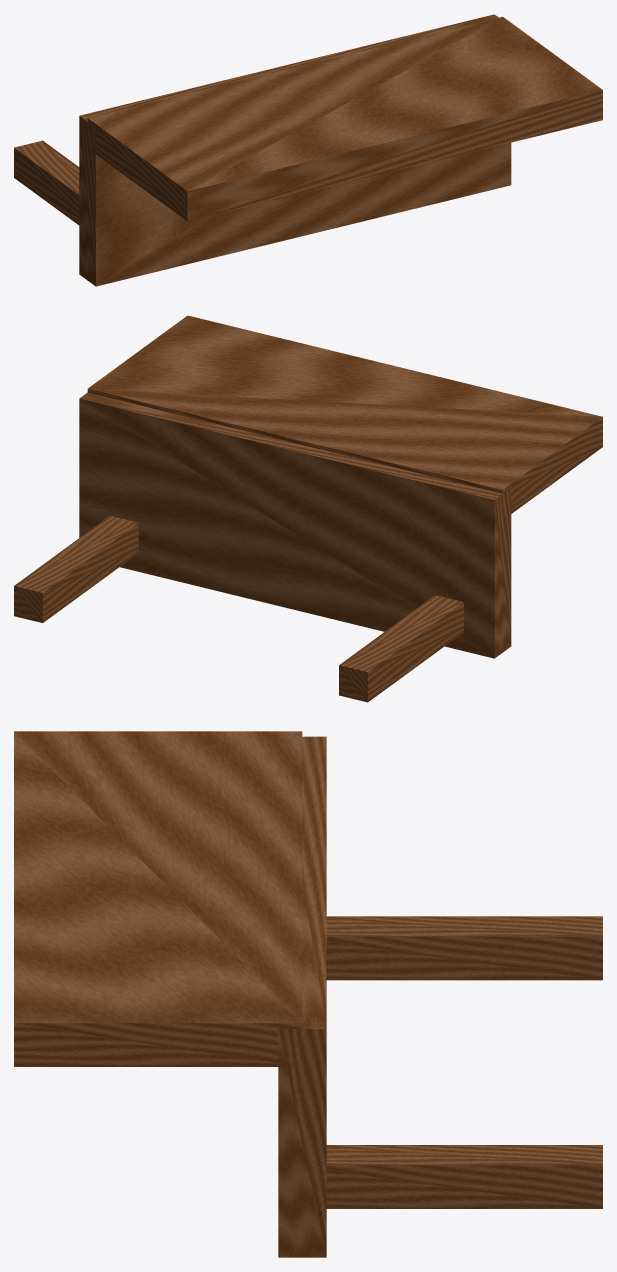
Rendered from SM_ShBench.obj.
3 renders of one model, top to bottom at view 1: azimuth 30°, elevation 25°; view 2: azimuth 150°, elevation 25°; view 3: azimuth 270°, elevation 25°, orthographic. The views are drawn at different scales.
Parts seen in each view (by area): view 1: SM_ShBench; view 2: SM_ShBench; view 3: SM_ShBench.
Part boxes in pixels (x1,y1,x2,y2): SM_ShBench: (14, 14, 602, 286); SM_ShBench: (14, 315, 602, 702); SM_ShBench: (14, 731, 602, 1257).
Size of the model in its own units: 115 by 43 by 98.
Materials: 1 (1 with a texture image).
